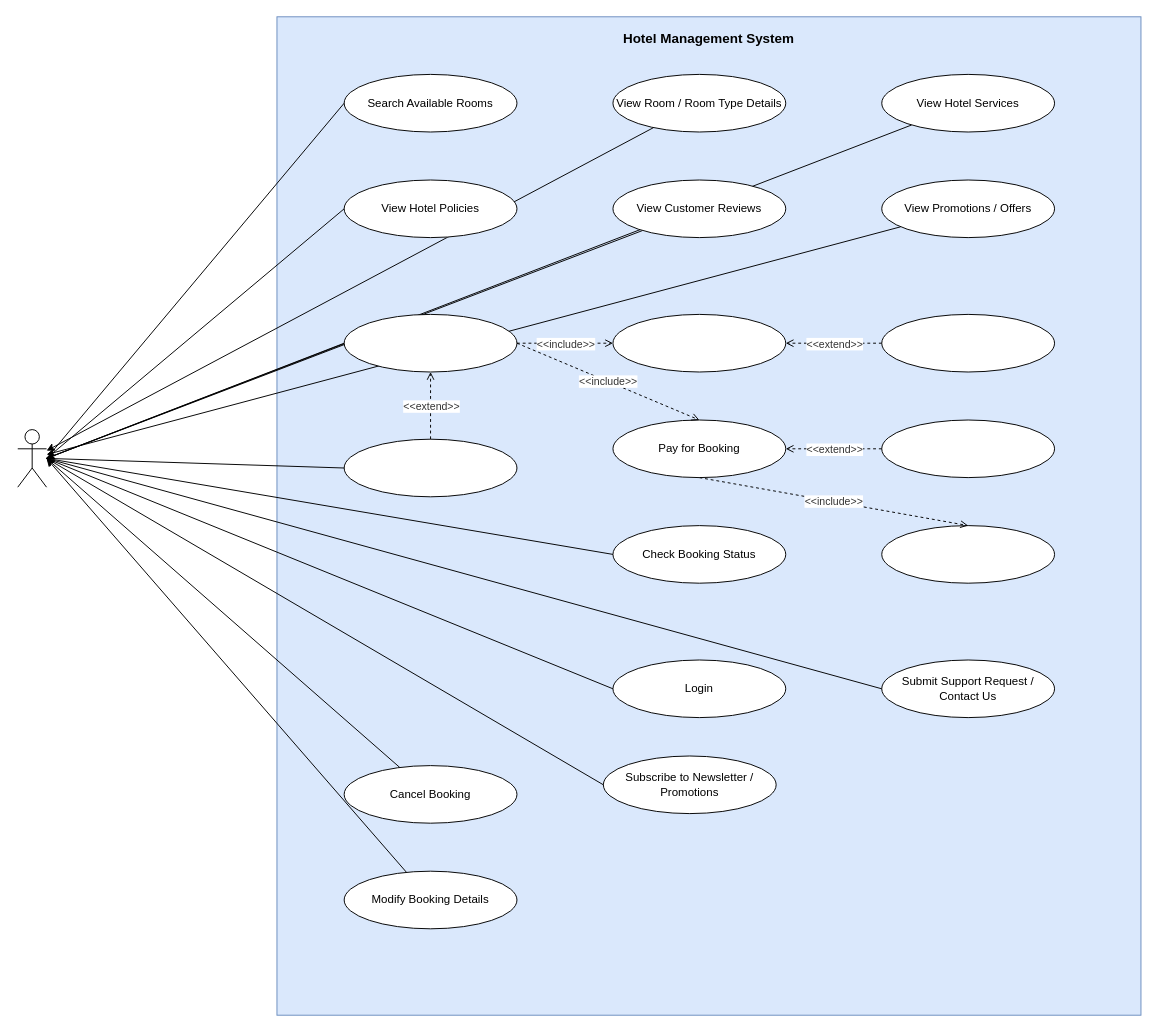
Some shapes in this 1158 by 1032 pixel diagram are drawn without their labels. Here are the shapes that lost their labels. From the top down, the centre of each, then its label:
the point at 430,342: Book Room
the point at 699,342: Enter Contact Information
the point at 968,342: Select Add-on Services
the point at 32,458: Guest
the point at 430,467: Register Account
the point at 968,448: Apply Discount Code / Voucher
the point at 968,554: Receive Email / SMS Confirmation
